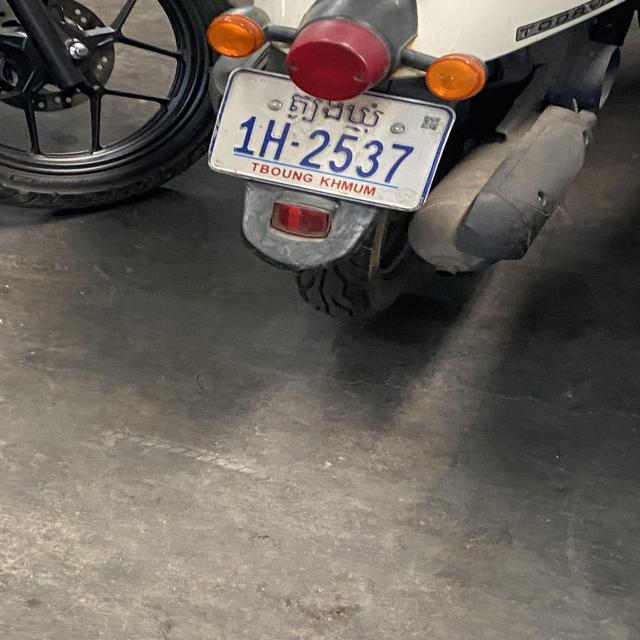Tboung_Khmum: (284, 91, 382, 138)
